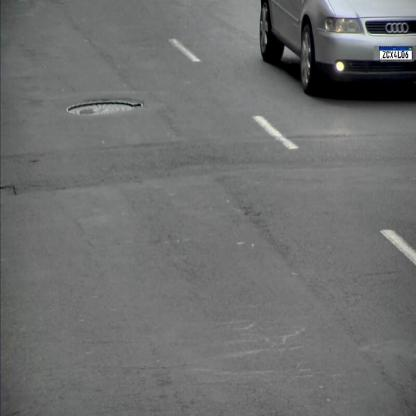PlacaM: (379, 46, 412, 60)
